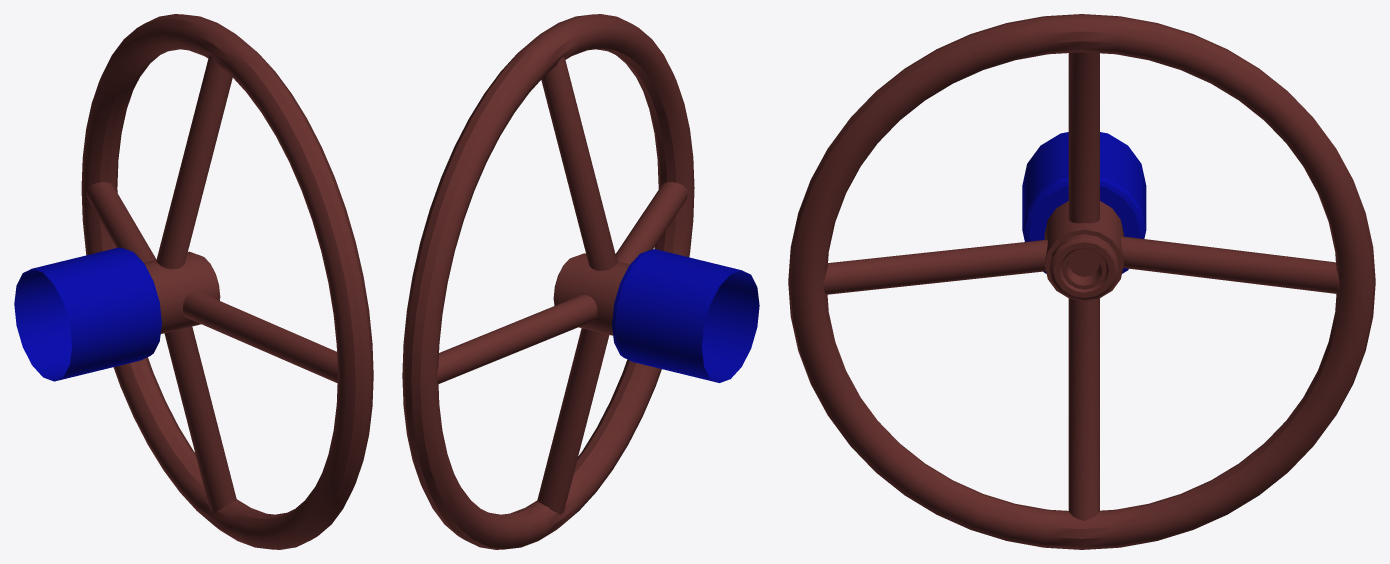
The model's file is ValveWheel.fbx.
3 views of the same model, side by side, from view 1: azimuth 30°, elevation 25°; view 2: azimuth 150°, elevation 25°; view 3: azimuth 270°, elevation 25° (orthographic). The views are drawn at different scales.
Visible parts, largest first — view 1: BulkheadDoor.001; view 2: BulkheadDoor.001; view 3: BulkheadDoor.001.
Boxes of the visible parts, x1,y1,x2,y2 form: BulkheadDoor.001: (14,14,373,549); BulkheadDoor.001: (402,14,759,549); BulkheadDoor.001: (788,14,1375,549).
Size of the model in its own units: 16.87 by 40.29 by 40.29.
